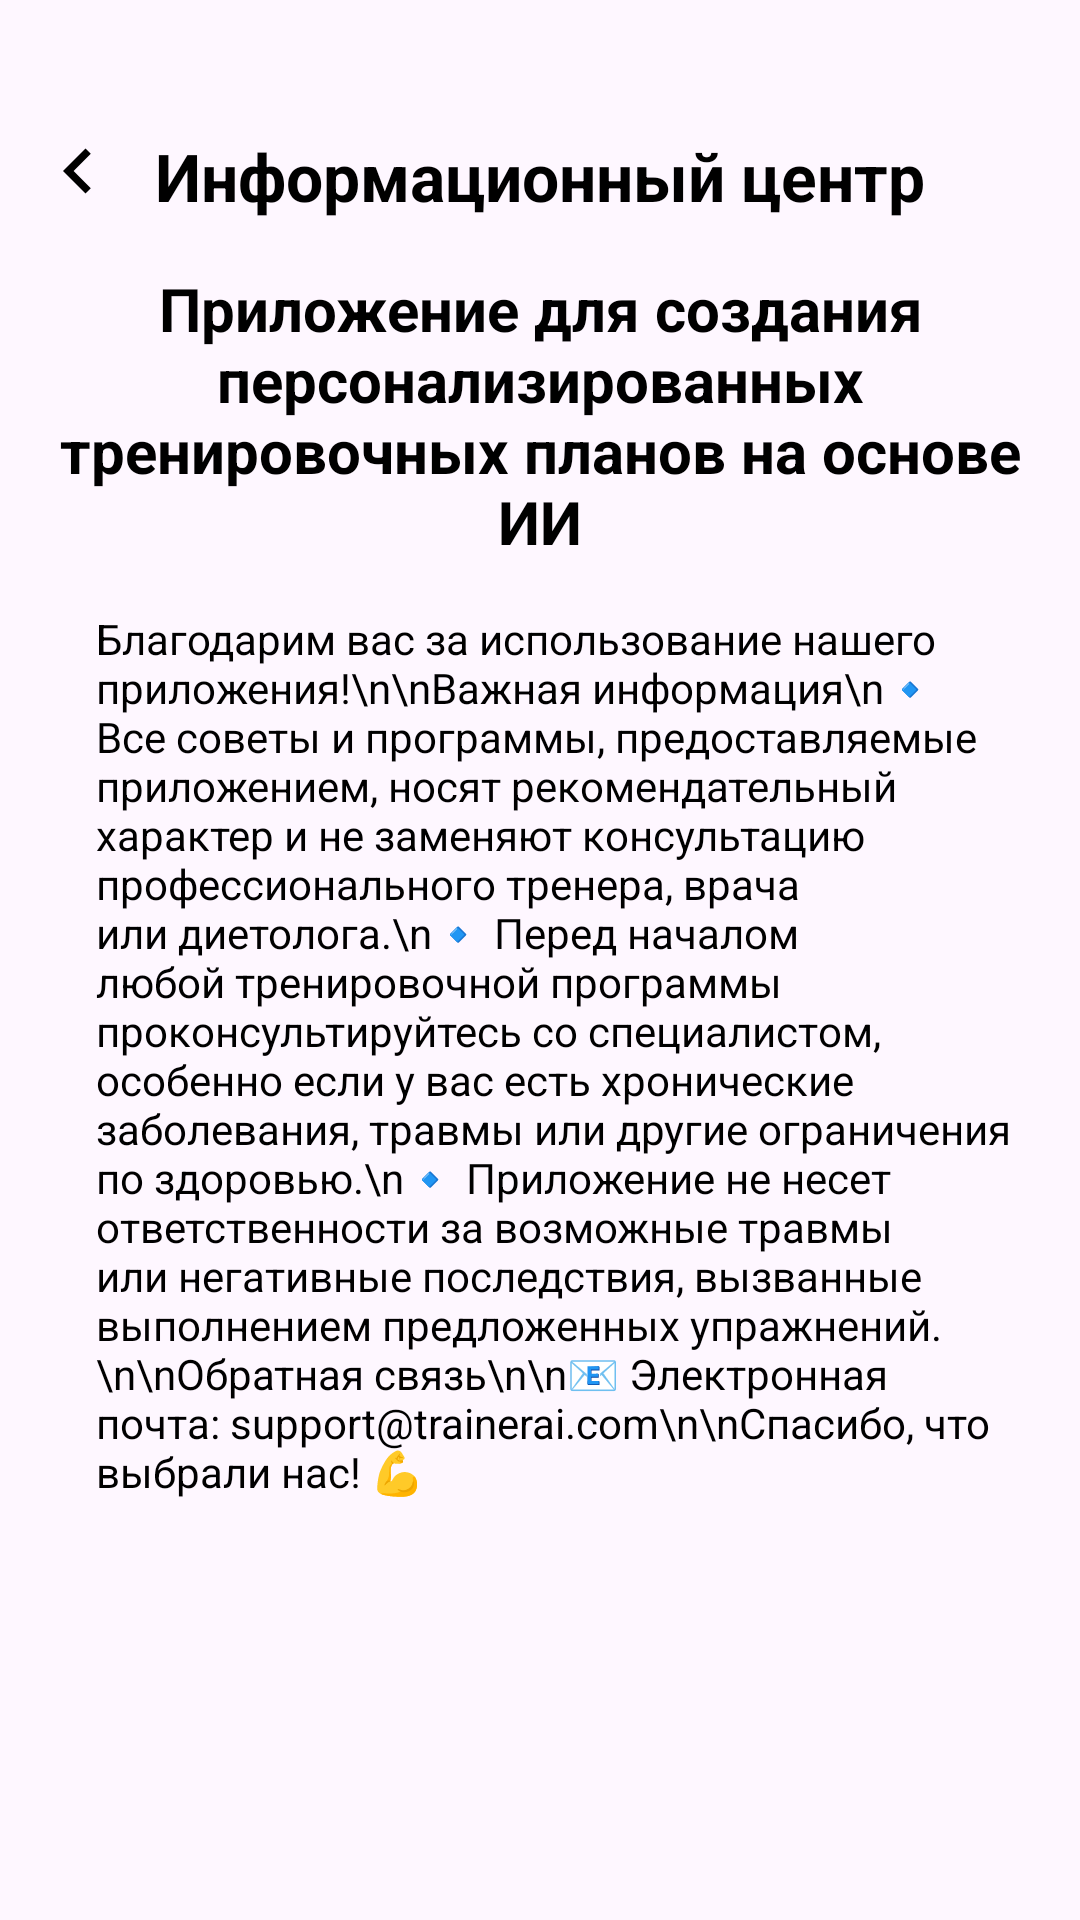

Locate icon controls on the screen. Image size 1080*1920, boxes as [left=x1, top=y1, right=x2, bottom=y2].
Нажмите, если хотите вернуться на предыдущий экран: [left=63, top=148, right=91, bottom=194]
